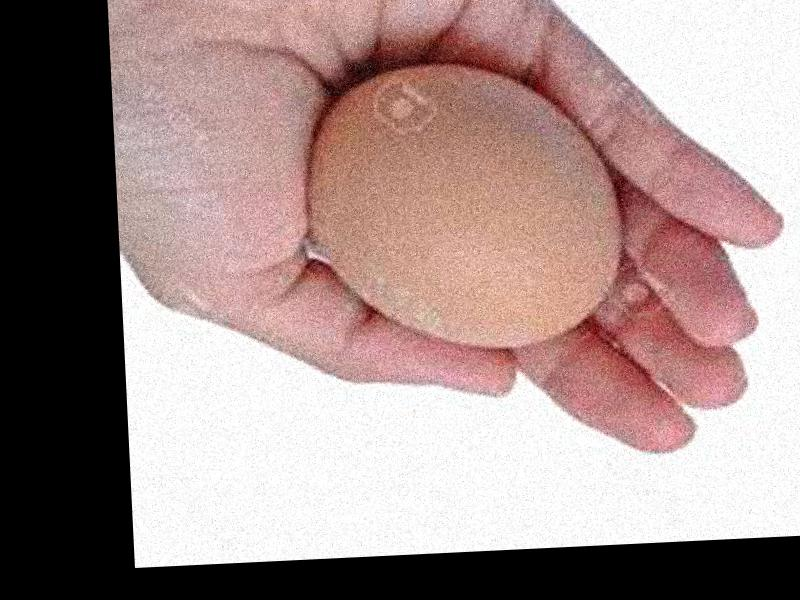Eggs: (300, 59, 627, 356)
